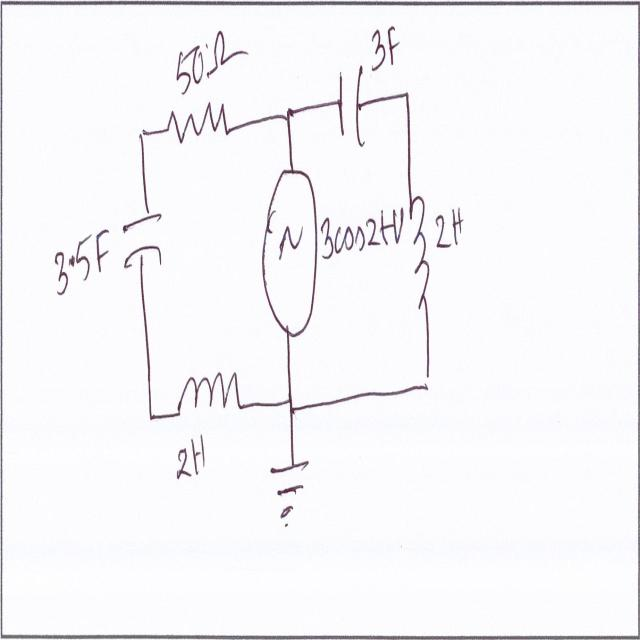capacitor: (120, 204, 168, 288), (332, 65, 370, 152)
current_source: (262, 160, 319, 344)
ground: (268, 452, 316, 537)
inductor: (176, 363, 243, 430), (403, 190, 438, 315)
resistor: (164, 95, 232, 156)
